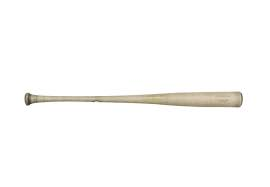bat: (23, 90, 244, 109)
